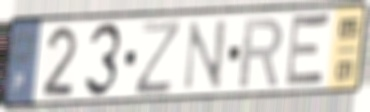2: (40, 22, 81, 102)
3: (79, 20, 126, 99)
E: (282, 10, 333, 90)
N: (180, 16, 230, 93)
R: (237, 16, 286, 91)
Z: (132, 17, 185, 98)
